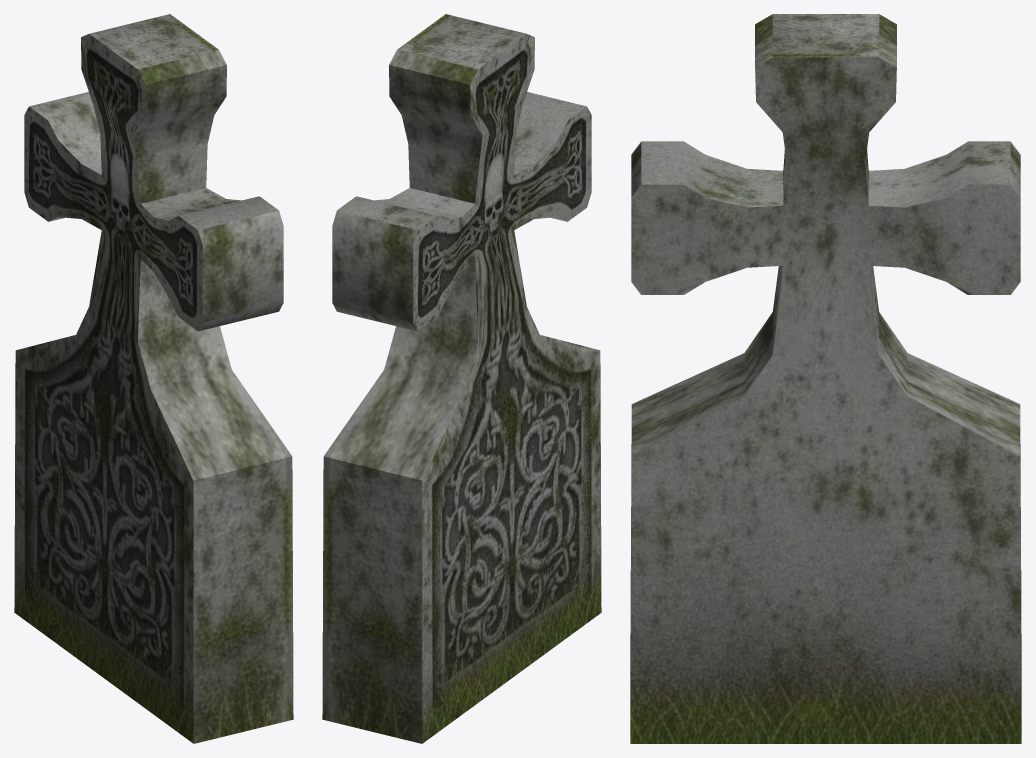
The model's file is grave-3.fbx.
The picture shows the model from 3 angles, left to right: view 1: azimuth 30°, elevation 25°; view 2: azimuth 150°, elevation 25°; view 3: azimuth 270°, elevation 25°; orthographic projection. The views are drawn at different scales.
Parts seen in each view (by area): view 1: Cube; view 2: Cube; view 3: Cube.
Boxes of the visible parts, x1,y1,x2,y2 form: Cube: (14,14,293,743); Cube: (322,14,601,743); Cube: (630,14,1021,743).
Bounding box in the file's own units: 52.12 × 312 × 162.
Materials: 1 (1 with a texture image).
